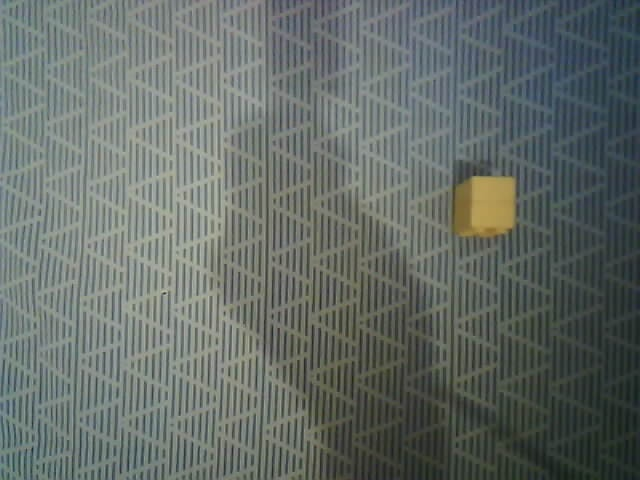lego: (452, 174, 517, 239)
